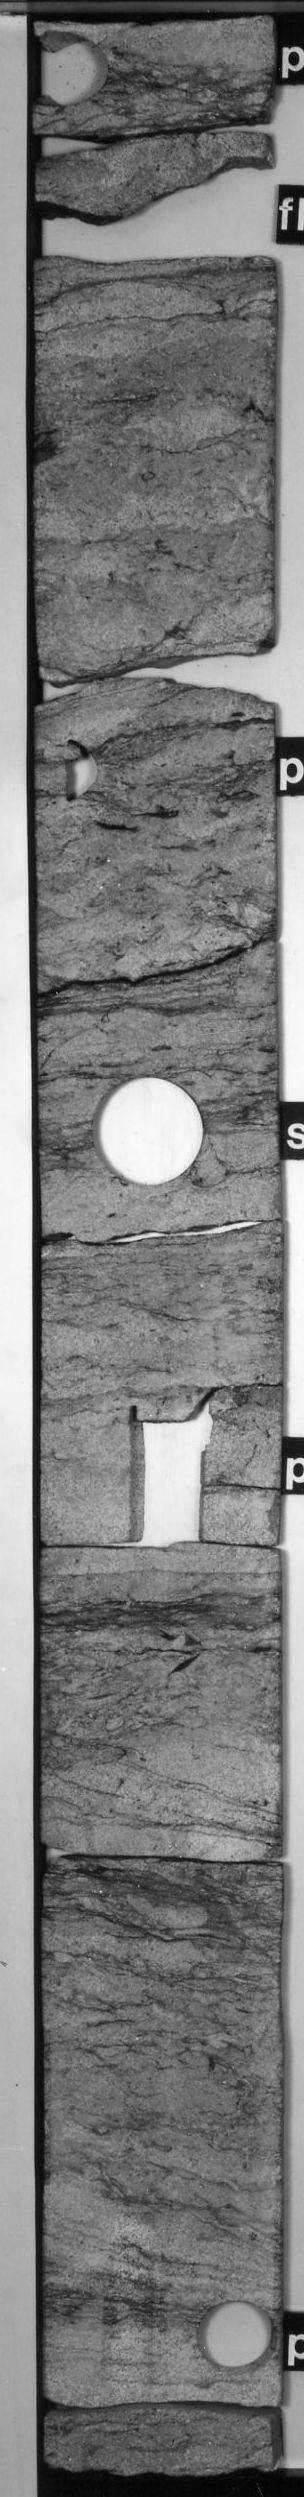hplug: (33, 159, 275, 277), (188, 2284, 275, 2384), (33, 29, 124, 116), (45, 733, 119, 811)
scal: (80, 1062, 209, 1198)
vplug: (116, 1389, 220, 1553), (91, 2241, 178, 2395)
